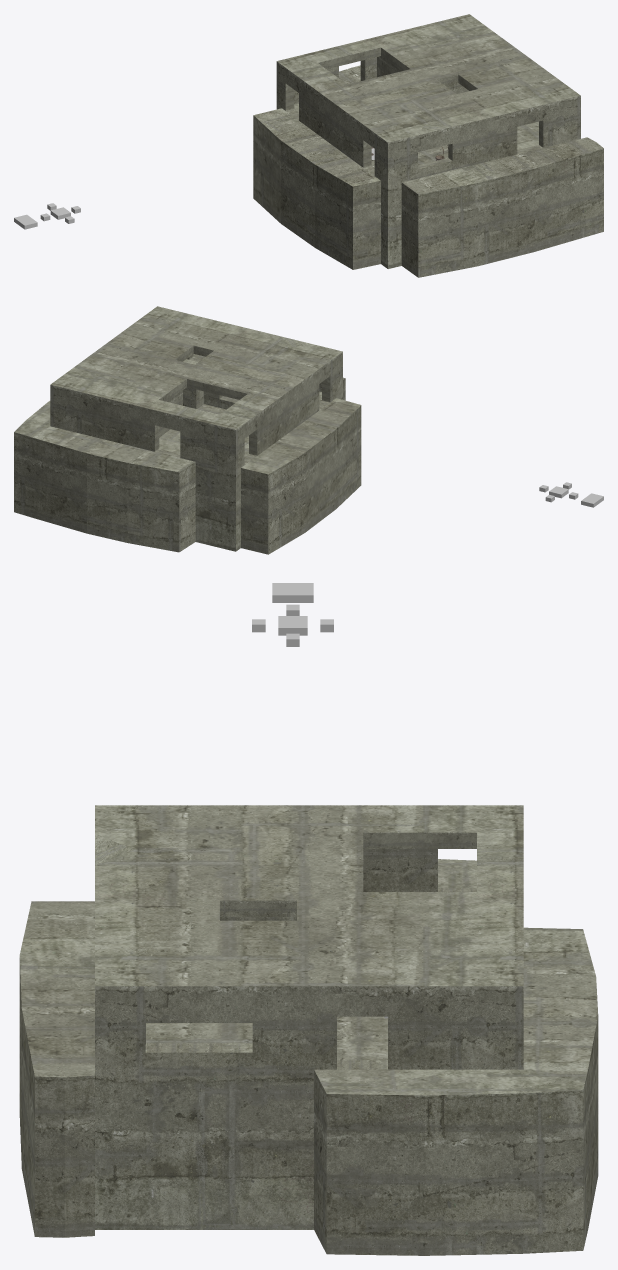
The model's file is SM_Gutenberg_03.fbx.
The picture shows the model from 3 angles, top to bottom: view 1: azimuth 30°, elevation 25°; view 2: azimuth 150°, elevation 25°; view 3: azimuth 270°, elevation 25°; orthographic projection. The views are drawn at different scales.
Parts seen in each view (by area): view 1: Plane.001, Plane, SM_Kitchen_Block_00; view 2: Plane.001, Plane, SM_Kitchen_Block_00; view 3: Plane.001, Plane, SM_Kitchen_Block_00.
Part boxes in pixels (box(x1,y1,x2,y2)): Plane.001: box(276, 14, 580, 268); Plane: box(253, 56, 603, 277); SM_Kitchen_Block_00: box(14, 203, 80, 229); Plane.001: box(50, 306, 342, 551); Plane: box(14, 354, 361, 554); SM_Kitchen_Block_00: box(539, 482, 603, 507); Plane.001: box(95, 805, 523, 1229); Plane: box(19, 859, 598, 1255); SM_Kitchen_Block_00: box(252, 583, 387, 1018).
Bounding box in the file's own units: 7827 × 1760 × 3790.
